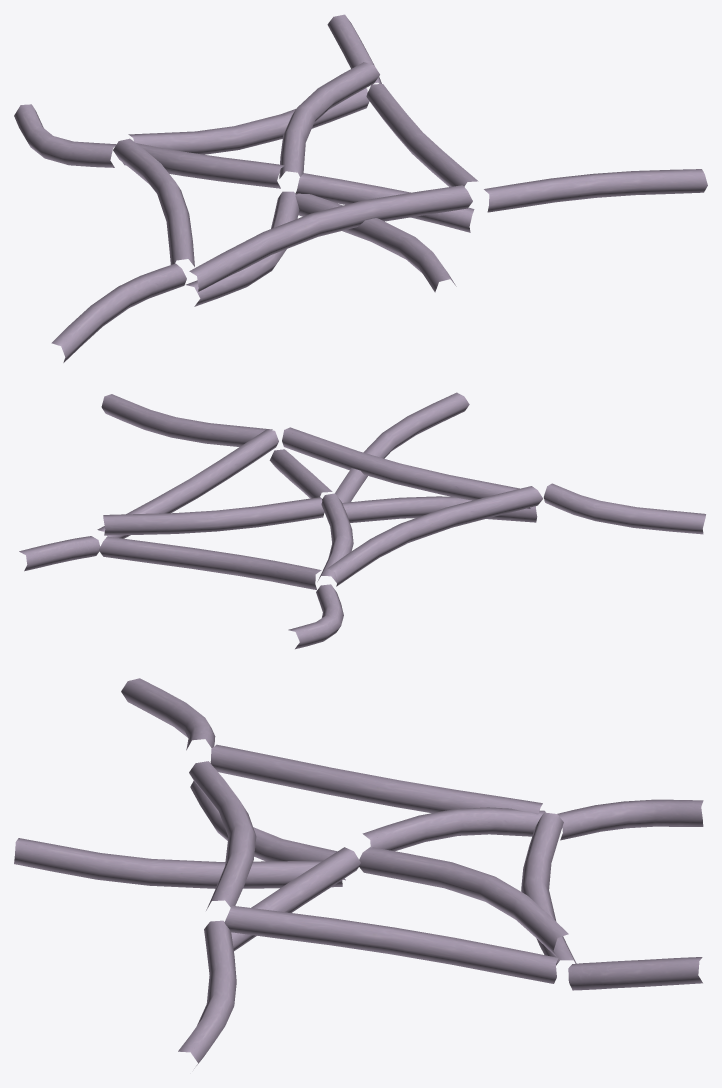
File: lymph-reticulum.glb
The picture shows the model from 3 angles, top to bottom: view 1: azimuth 30°, elevation 25°; view 2: azimuth 150°, elevation 25°; view 3: azimuth 270°, elevation 25°; orthographic projection. The views are drawn at different scales.
Visible parts, largest first — view 1: lymph-reticulum; view 2: lymph-reticulum; view 3: lymph-reticulum.
Part boxes in pixels (<box>): lymph-reticulum: <box>14,14,707,362</box>; lymph-reticulum: <box>19,392,705,649</box>; lymph-reticulum: <box>14,678,703,1068</box>.
Bounding box in the file's own units: 4.93 × 0.3365 × 3.94.
1 material, 1 textured.
